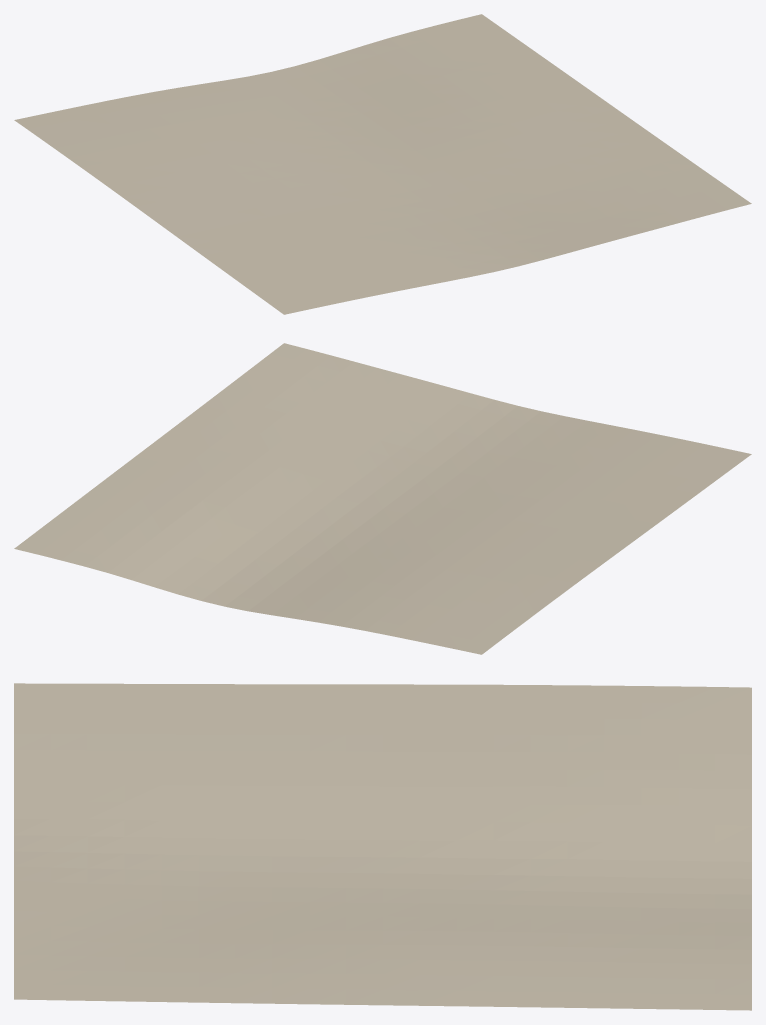
File: bolak_-20_12.glb
3 views of the same model, one above another, from view 1: azimuth 30°, elevation 25°; view 2: azimuth 150°, elevation 25°; view 3: azimuth 270°, elevation 25° (orthographic). The views are drawn at different scales.
Parts seen in each view (by area): view 1: Yer_Tuproq-col; view 2: Yer_Tuproq-col; view 3: Yer_Tuproq-col.
Part boxes in pixels (bbox=[...]): Yer_Tuproq-col: bbox=[14, 14, 751, 314]; Yer_Tuproq-col: bbox=[14, 343, 751, 654]; Yer_Tuproq-col: bbox=[14, 683, 751, 1010].
Bounding box in the file's own units: 400 × 14.36 × 400.
